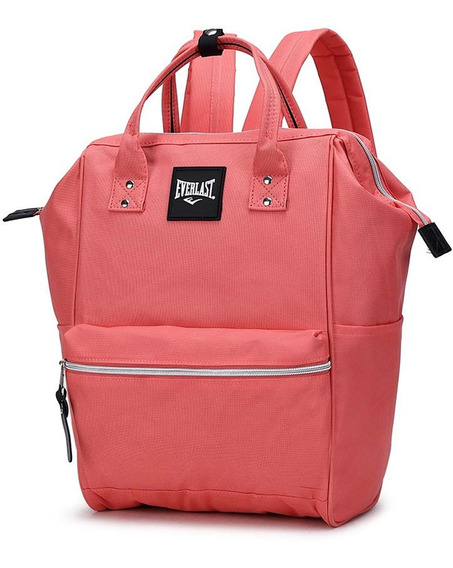cartera: (31, 24, 453, 530)
